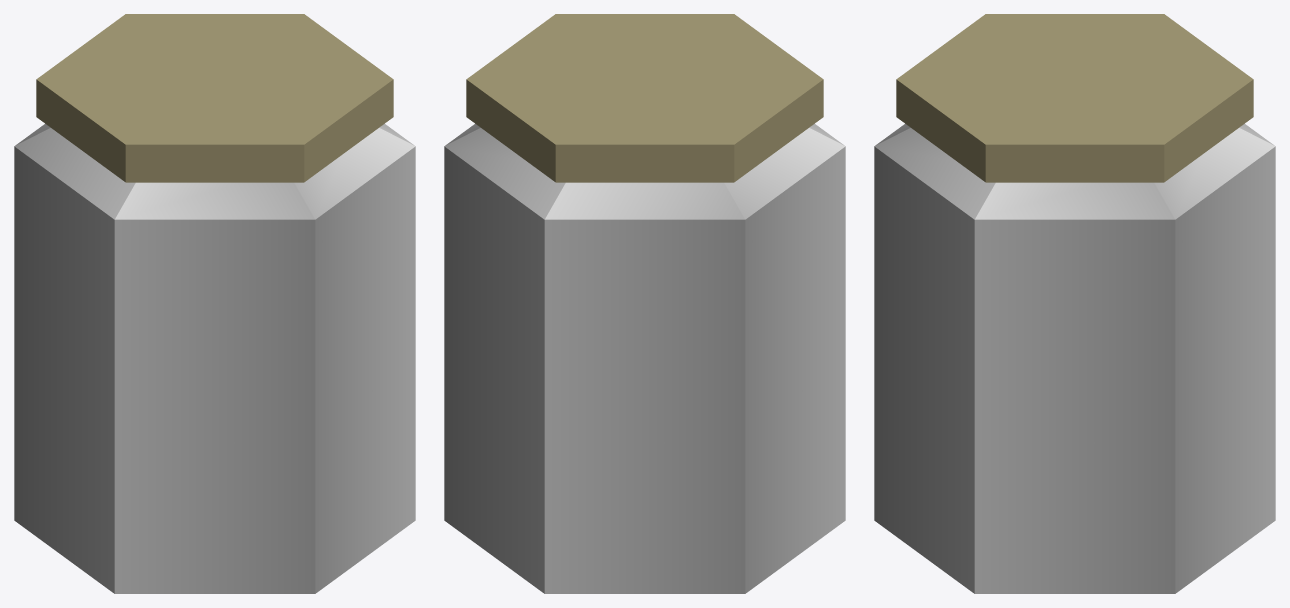
File: Interior Item 01.fbx
3 views of the same model, side by side, from view 1: azimuth 30°, elevation 25°; view 2: azimuth 150°, elevation 25°; view 3: azimuth 270°, elevation 25° (orthographic).
Visible parts, largest first — view 1: Interior Item 01; view 2: Interior Item 01; view 3: Interior Item 01.
Part boxes in pixels (x1,y1,x2,y2): Interior Item 01: (14,14,415,593); Interior Item 01: (444,14,845,593); Interior Item 01: (874,14,1275,593).
Bounding box in the file's own units: 9.09 × 12.73 × 10.5.
